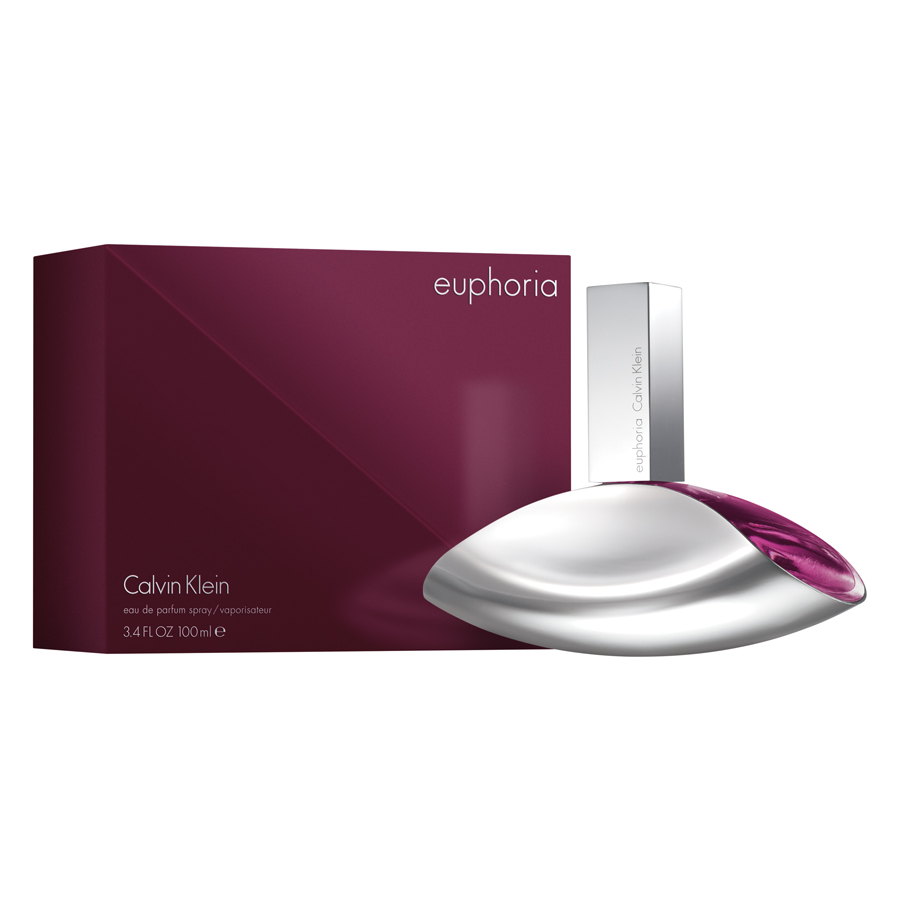Calvin Klein: (117, 569, 245, 598), (627, 338, 646, 418)
